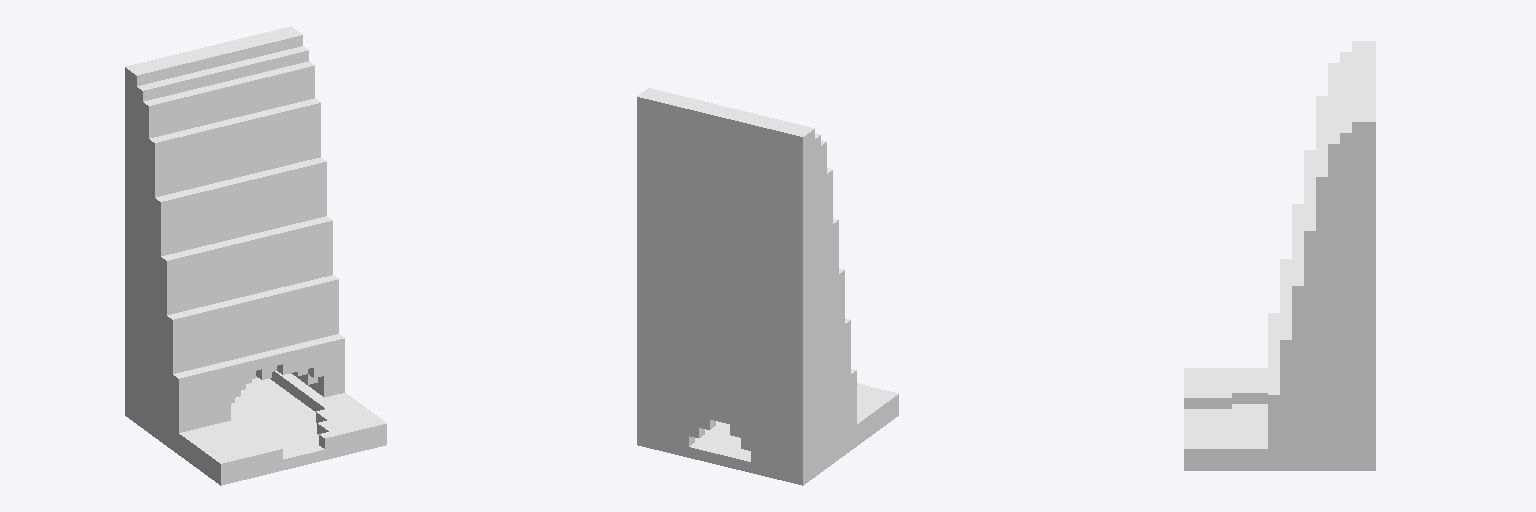
File: Mountain_river_1.obj
3 views of the same model, side by side, from view 1: azimuth 30°, elevation 25°; view 2: azimuth 150°, elevation 25°; view 3: azimuth 270°, elevation 25° (orthographic).
Parts seen in each view (by area): view 1: object 1; view 2: object 1; view 3: object 1.
Part boxes in pixels (x1,y1,x2,y2): object 1: (125,26,386,485); object 1: (637,88,898,485); object 1: (1184,41,1375,470).
Size of the model in its own units: 1.6 by 3.2 by 1.6.